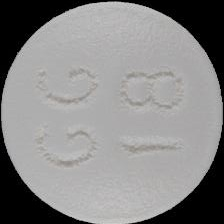0781-1046: (0, 0, 224, 224)
